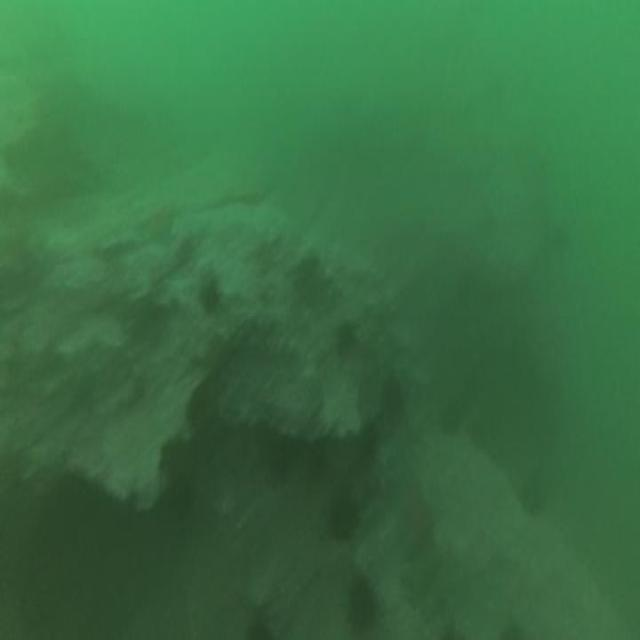echinus: (343, 570, 379, 640), (324, 487, 362, 540), (304, 433, 332, 487), (377, 372, 406, 424), (196, 275, 224, 322), (333, 314, 358, 362), (246, 614, 275, 640)
